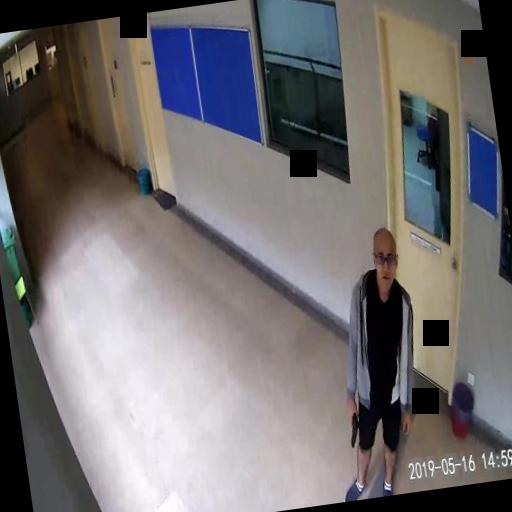Handgun: (345, 406, 360, 446)
